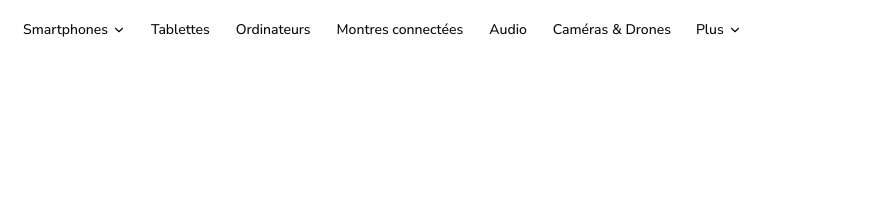
Test: DesktopNav › shows overflow categories in Plus menu
Hover over the button with aria-label "plus de catégories".
mouse_move(719, 30)  # box x1=685 y1=14 x2=753 y2=46
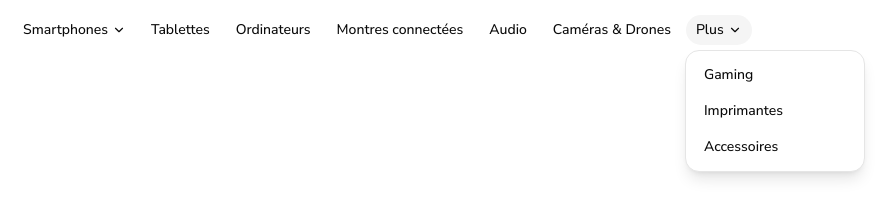
Expected: the link "Gaming" is shown, x1=704 y1=65 x2=753 y2=84
Expected: the link "Accessoires" is shown, x1=704 y1=137 x2=778 y2=156
